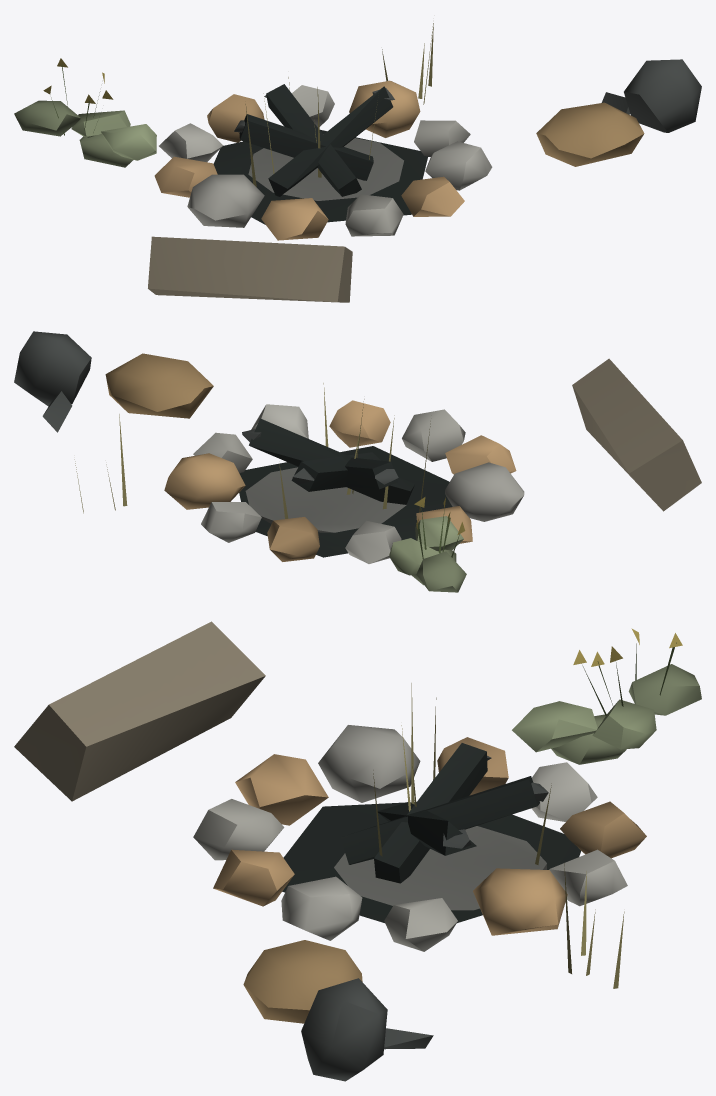
File: cold_campfire_c_lod2.glb
3 views of the same model, one above another, from view 1: azimuth 30°, elevation 25°; view 2: azimuth 150°, elevation 25°; view 3: azimuth 270°, elevation 25° (orthographic). The views are drawn at different scales.
Parts seen in each view (by area): view 1: Surface.001; view 2: Surface.001; view 3: Surface.001.
Part boxes in pixels (<box>): Surface.001: <box>14,23,701,302</box>; Surface.001: <box>14,331,701,592</box>; Surface.001: <box>14,621,701,1081</box>.
Bounding box in the file's own units: 7.25 × 1.27 × 5.32.
